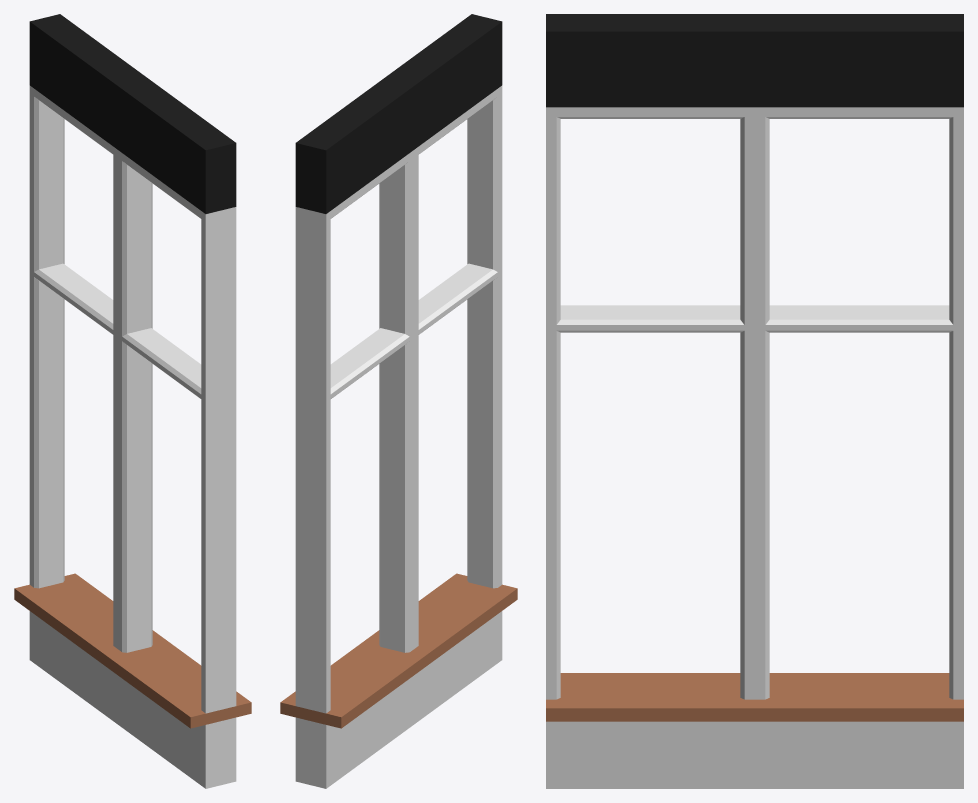
File: SM_Build_Fenster_weiss_2.fbx
3 views of the same model, side by side, from view 1: azimuth 30°, elevation 25°; view 2: azimuth 150°, elevation 25°; view 3: azimuth 270°, elevation 25° (orthographic). The views are drawn at different scales.
Parts seen in each view (by area): view 1: Fenster weiß 2.; view 2: Fenster weiß 2.; view 3: Fenster weiß 2..
Part boxes in pixels (box(x1,y1,x2,y2)): Fenster weiß 2.: box(14, 14, 251, 788); Fenster weiß 2.: box(280, 14, 517, 788); Fenster weiß 2.: box(546, 14, 963, 788).
Bounding box in the file's own units: 0.4 × 4 × 2.
